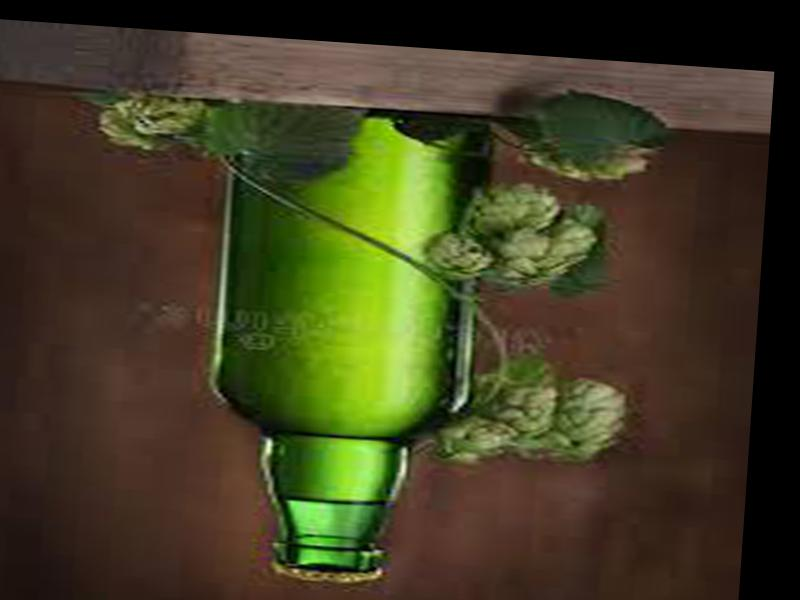Beer: (196, 91, 482, 591)
